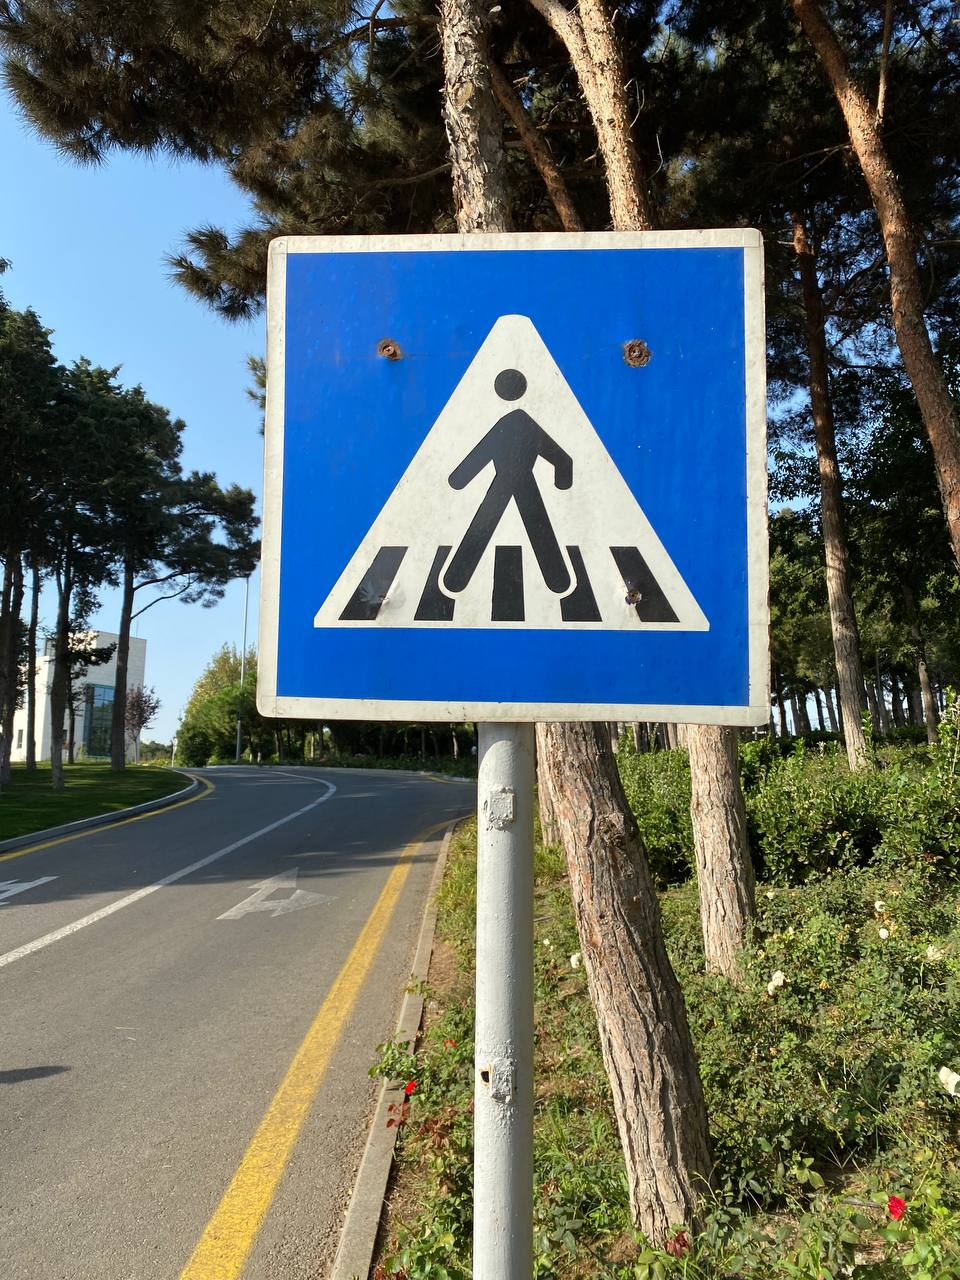Pedestrian Crossing: (265, 231, 772, 725)
